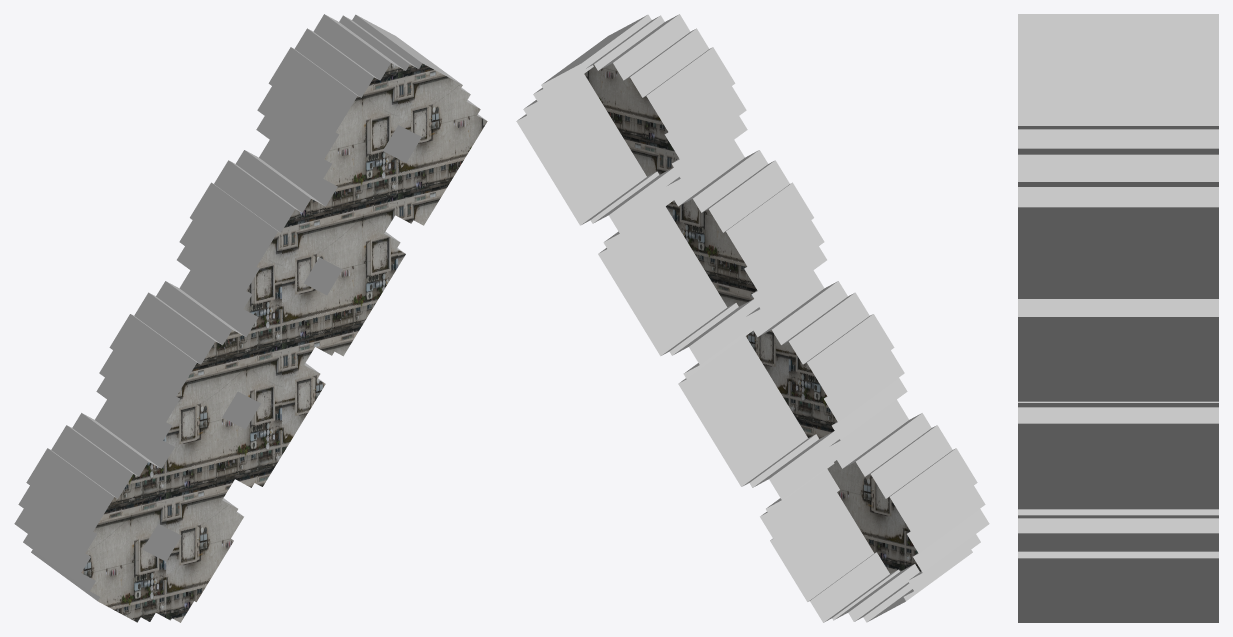
Rendered from geospecific_318.obj.
The picture shows the model from 3 angles, left to right: view 1: azimuth 30°, elevation 25°; view 2: azimuth 150°, elevation 25°; view 3: azimuth 270°, elevation 25°; orthographic projection. The views are drawn at different scales.
Visible parts, largest first — view 1: Building; view 2: Building; view 3: Building.
Boxes of the visible parts, x1=… form: Building: x1=14, y1=14, x2=487, y2=622; Building: x1=516, y1=14, x2=989, y2=622; Building: x1=1018, y1=14, x2=1218, y2=622.
Bounding box in the file's own units: 52.6 × 62.9 × 15.
